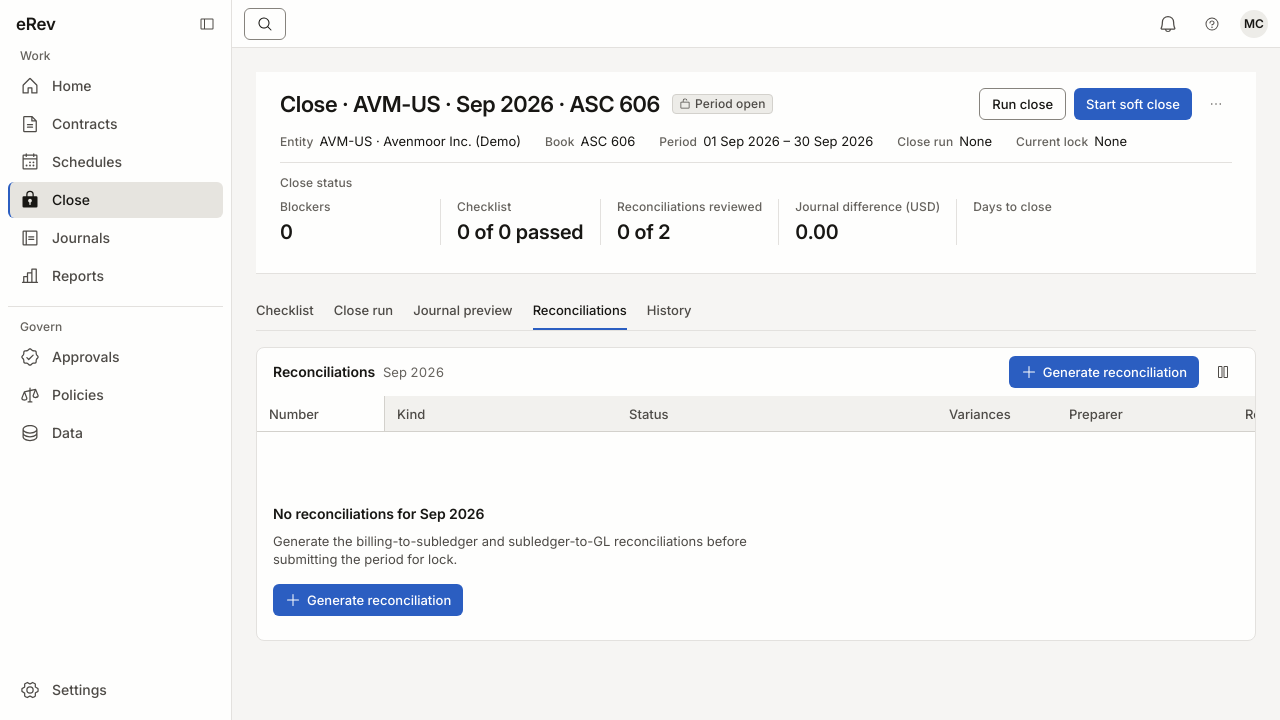
it: SF-05:reconciliations › generates a reconciliation as a job, then names it in a toast
Expected: the heading "No reconciliations for Sep 2026" is shown, x1=273 y1=504 x2=484 y2=524
Click the 1st button "Generate reconciliation". click: (1104, 372)
box: x1=1009 y1=356 x2=1199 y2=388
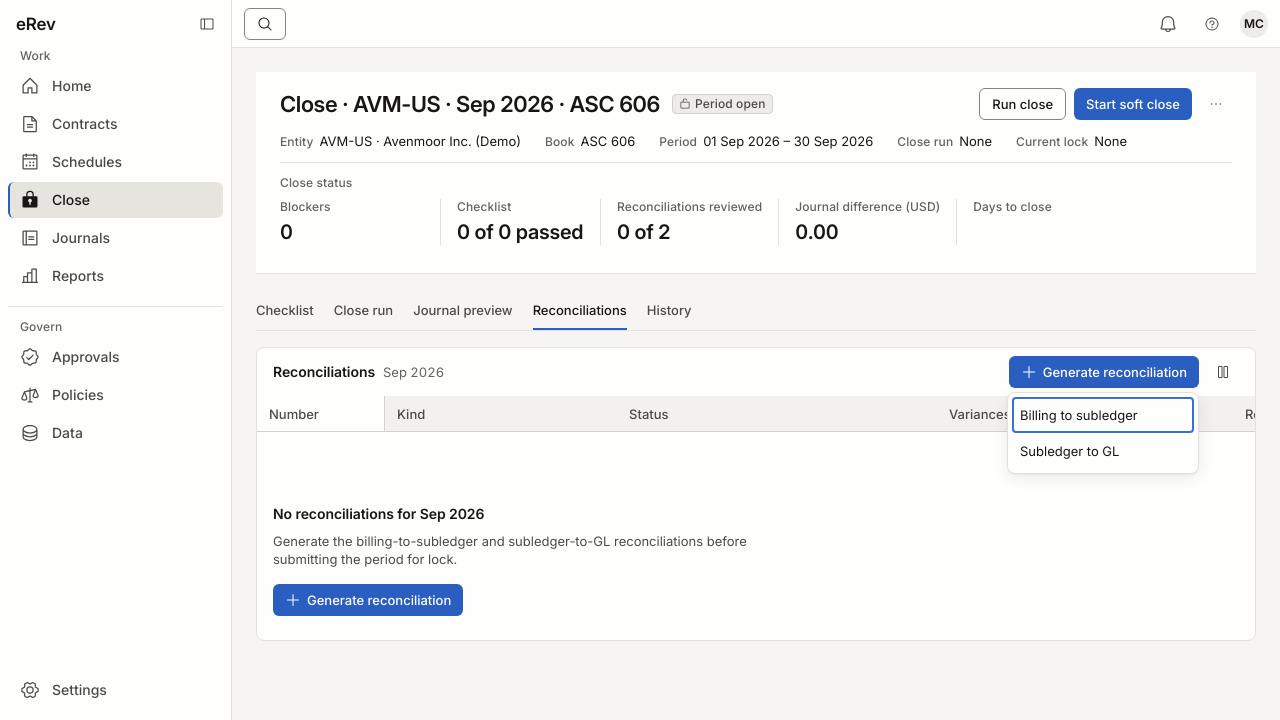
Expected: the menu items read "Billing to subledger", "Subledger to GL", in this order
Click the menu item "Billing to subledger". click: (1103, 415)
box: x1=1012 y1=397 x2=1194 y2=433
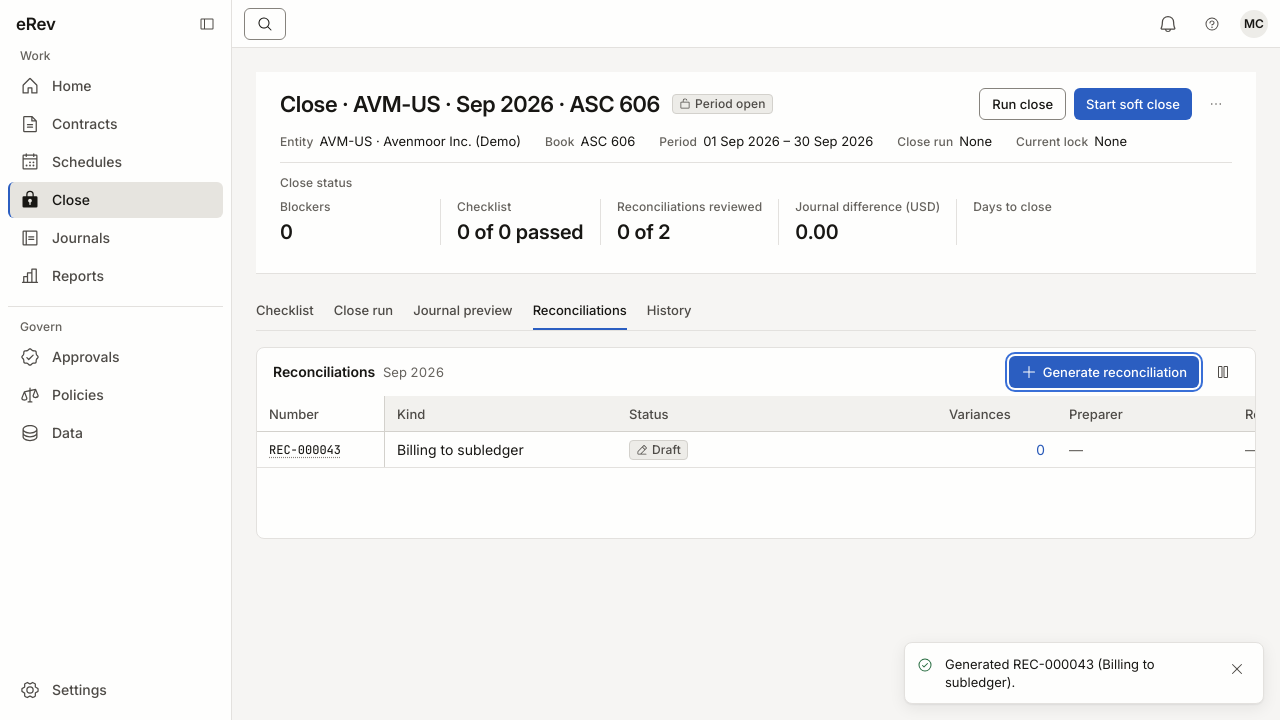
Expected: the text "Generated REC-000043 (Billing to subledger)." is shown, x1=945 y1=656 x2=1155 y2=690
Expected: the link "REC-000043" is shown, x1=269 y1=442 x2=341 y2=458
